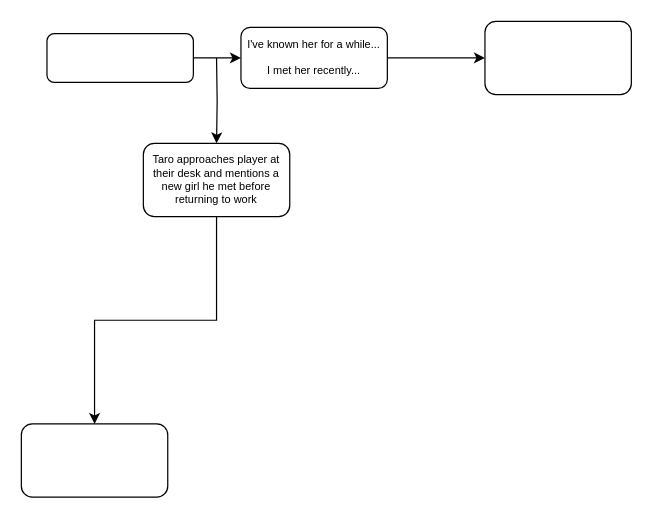
Image size: 653x519. Some labels were removed from this diagram. The centre of each missing label's shape, as x and y in pixels:
"persistent.claudia_familiar persistent.claudia_stranger" belongs at point 557,57.
"Player is in office writing a journal entry about Claudia" belongs at point 119,57.
